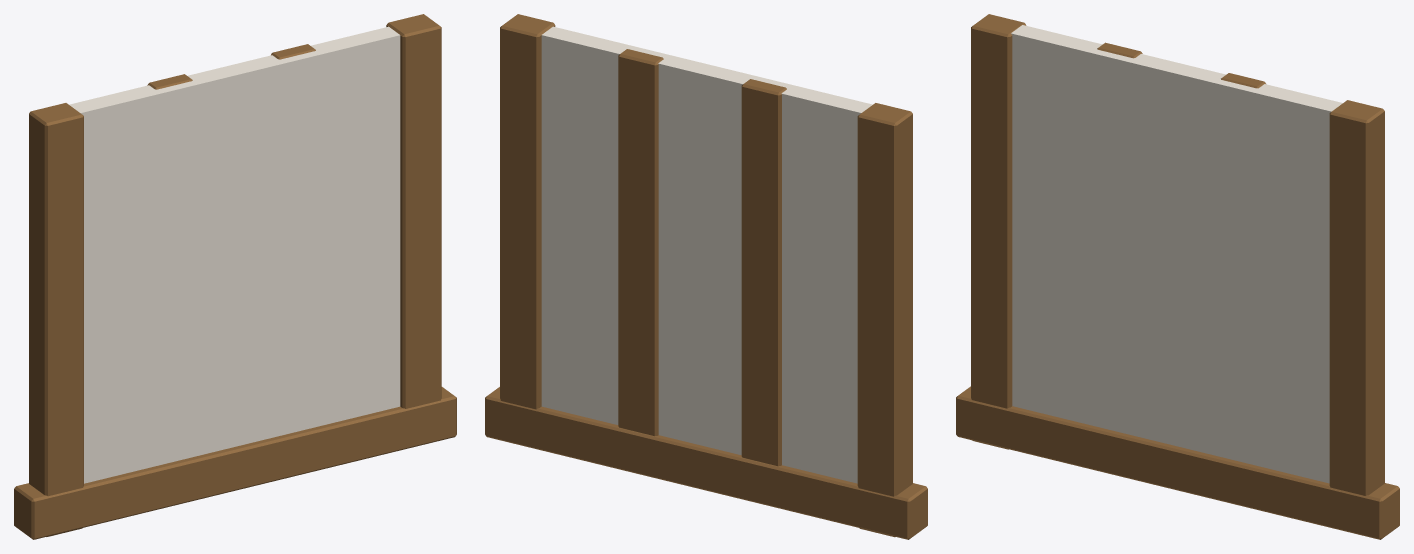
Rendered from Wall2V.fbx.
3 renders of one model, left to right at view 1: azimuth 30°, elevation 25°; view 2: azimuth 150°, elevation 25°; view 3: azimuth 330°, elevation 25°, orthographic.
Parts seen in each view (by area): view 1: Cube.085, Cube.106, Cube.113, Cube.099; view 2: Cube.085, Cube.106, Cube.113, Cube.099, Cube.124, Cube.120; view 3: Cube.085, Cube.099, Cube.113, Cube.106.
Part boxes in pixels (x1,y1,x2,y2): Cube.085: [69, 26, 400, 483]; Cube.106: [29, 103, 83, 536]; Cube.113: [14, 387, 456, 539]; Cube.099: [386, 14, 441, 408]; Cube.085: [541, 26, 872, 483]; Cube.106: [857, 103, 912, 537]; Cube.113: [485, 387, 927, 539]; Cube.099: [500, 14, 555, 409]; Cube.124: [618, 49, 663, 436]; Cube.120: [741, 79, 786, 466]; Cube.085: [1011, 25, 1342, 483]; Cube.099: [1329, 100, 1384, 495]; Cube.113: [956, 386, 1399, 539]; Cube.106: [971, 14, 1026, 449].
Bounding box in the file's own units: 216 × 202 × 17.27.
